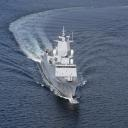Fragata: (40, 18, 84, 104)
